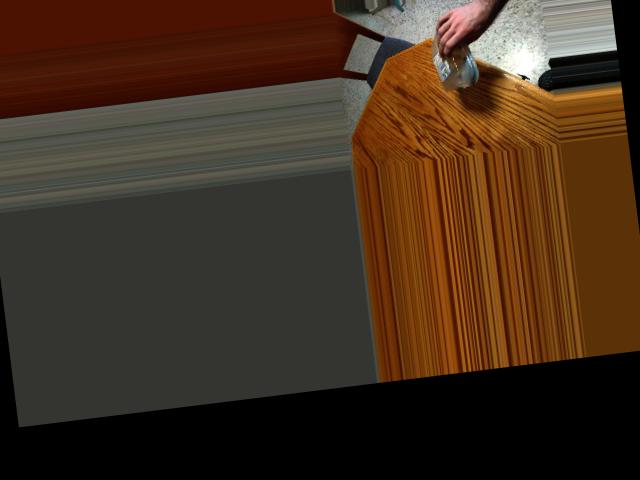cheese: (425, 11, 484, 80)
